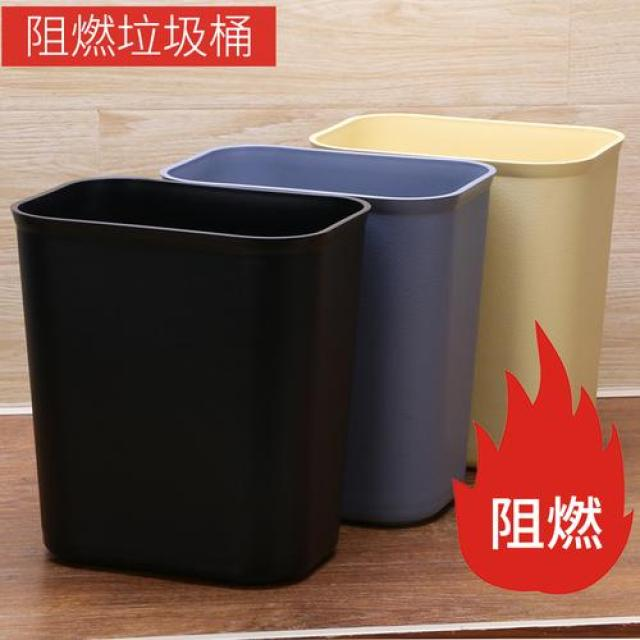dustbin: (9, 173, 373, 594)
